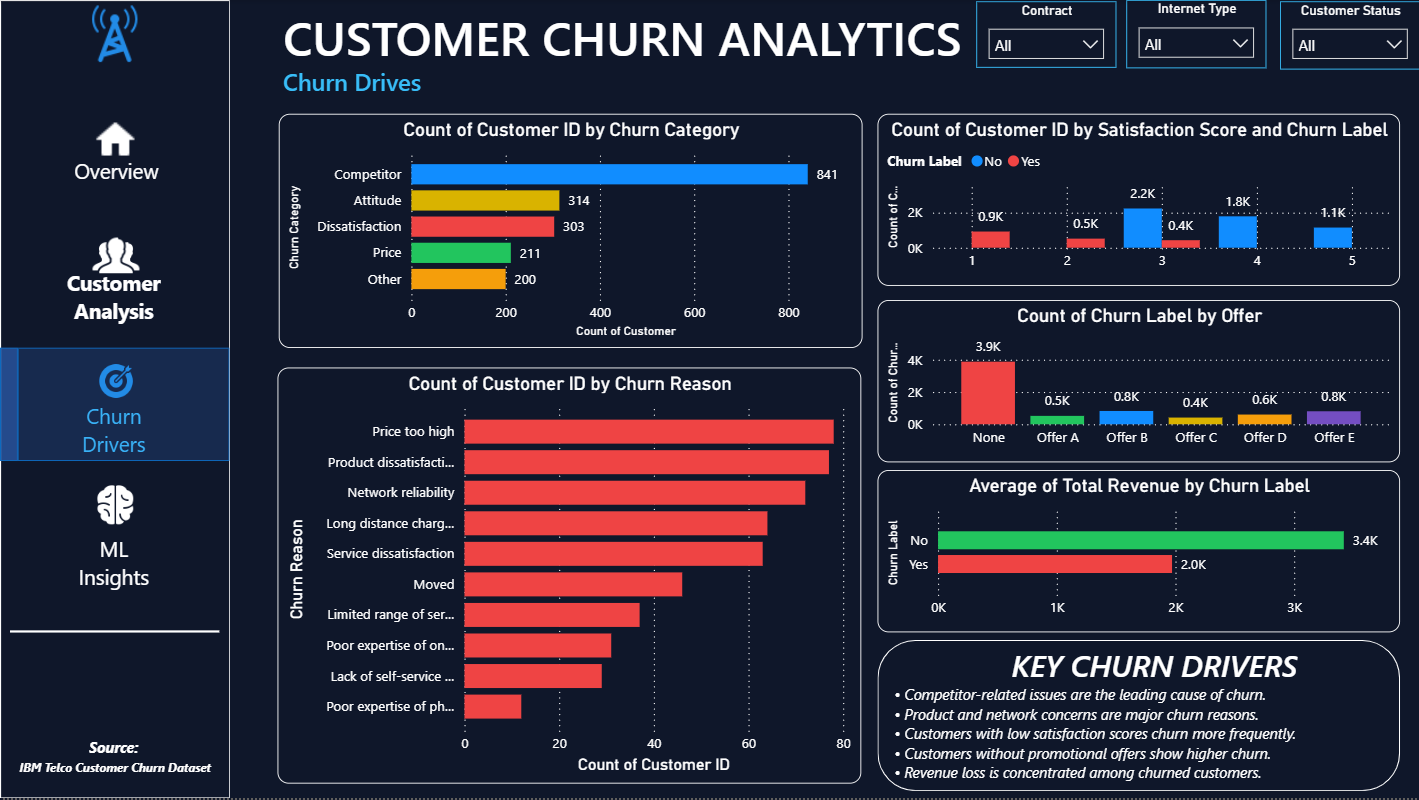

What the dashboard file says about the page in this screenshot:
{"tool":"powerbi","page":{"name":"Churn Drives","canvas":[1280,720],"ordinal":2},"visuals":[{"type":"clusteredBarChart","fields":{"Category":["telco.Churn Category"],"Y":["CountNonNull(telco.Customer ID)"]},"box":[251.2,102.5,526.2,211.2],"z":0},{"type":"barChart","fields":{"Category":["telco.Churn Reason"],"Y":["CountNonNull(telco.Customer ID)"]},"box":[250,331.2,526.2,375],"z":1000},{"type":"clusteredColumnChart","fields":{"Category":["telco.Satisfaction Score"],"Series":["telco.Churn Label"],"Y":["CountNonNull(telco.Customer ID)"]},"box":[791.2,102.5,471.2,155],"z":2000},{"type":"clusteredColumnChart","fields":{"Category":["telco.Offer"],"Y":["CountNonNull(telco.Churn Label)"]},"box":[791.2,270,471.2,146.2],"z":3000},{"type":"barChart","fields":{"Category":["telco.Churn Label"],"Y":["Avg(telco.Total Revenue)"]},"box":[791.2,423.8,471.2,146.2],"z":4000},{"type":"shape","box":[0,0,207.5,720],"z":5000},{"type":"textbox","box":[51.2,237.5,103.8,306.2],"z":6000},{"type":"image","box":[70,0,67.5,61.2],"z":7000},{"type":"textbox","box":[0,659.1,207.9,47.7],"z":8000},{"type":"shape","box":[8.8,538.8,188.8,61.2],"z":10000},{"type":"image","box":[73.8,102.5,61.2,47.5],"z":11000},{"type":"shape","box":[16.2,313.8,191.2,102.5],"z":12000},{"type":"shape","box":[0,313.8,16.2,102.5],"z":13000},{"type":"textbox","box":[52.5,136.2,103.8,35],"z":14000},{"type":"textbox","box":[250,0,672.5,62.5],"z":15000},{"type":"textbox","box":[250,53.8,202.5,40],"z":16000},{"type":"slicer","title":"Contract","fields":{"Values":["telco.Contract"]},"box":[880,1.2,126.2,60],"z":17000},{"type":"slicer","title":"Internet Type","fields":{"Values":["telco.Internet Type"]},"box":[1015,0,126.2,61.2],"z":18000},{"type":"slicer","title":"Customer Status","fields":{"Values":["telco.Customer Status"]},"box":[1153.8,1.2,126.2,61.2],"z":19000},{"type":"image","box":[63.8,322.5,80,42.5],"z":20000},{"type":"image","box":[77.5,205,53.8,52.5],"z":21000},{"type":"image","box":[80,432.5,47.5,45],"z":22000},{"type":"shape","box":[791.2,577.5,471.2,136.2],"z":22001},{"type":"textbox","box":[801.2,577.5,478.8,136.2],"z":22002}]}

Visuals, with their boxes on the page's 1280x720 design canvas (x1, y1, x2, y2). These are canvas units, not pixel positions in the 1419x800 screenshot, which may show the page scaled, cropped or inside an application window:
clusteredBarChart - telco.Churn Category x CountNonNull(telco.Customer ID): bbox(251, 102, 777, 314)
barChart - telco.Churn Reason x CountNonNull(telco.Customer ID): bbox(250, 331, 776, 706)
clusteredColumnChart - telco.Satisfaction Score x telco.Churn Label: bbox(791, 102, 1262, 258)
clusteredColumnChart - telco.Offer x CountNonNull(telco.Churn Label): bbox(791, 270, 1262, 416)
barChart - telco.Churn Label x Avg(telco.Total Revenue): bbox(791, 424, 1262, 570)
shape: bbox(0, 0, 208, 720)
textbox: bbox(51, 238, 155, 544)
image: bbox(70, 0, 138, 61)
textbox: bbox(0, 659, 208, 707)
shape: bbox(9, 539, 198, 600)
image: bbox(74, 102, 135, 150)
shape: bbox(16, 314, 207, 416)
shape: bbox(0, 314, 16, 416)
textbox: bbox(52, 136, 156, 171)
textbox: bbox(250, 0, 922, 62)
textbox: bbox(250, 54, 452, 94)
"Contract" slicer: bbox(880, 1, 1006, 61)
"Internet Type" slicer: bbox(1015, 0, 1141, 61)
"Customer Status" slicer: bbox(1154, 1, 1280, 62)
image: bbox(64, 322, 144, 365)
image: bbox(78, 205, 131, 258)
image: bbox(80, 432, 128, 478)
shape: bbox(791, 578, 1262, 714)
textbox: bbox(801, 578, 1280, 714)
